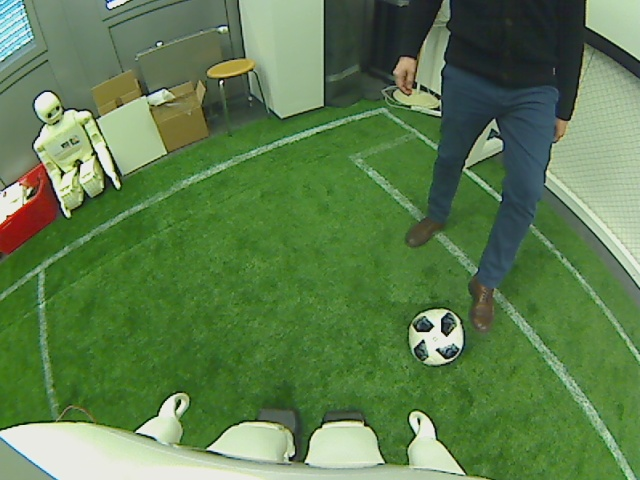ball: (408, 308, 464, 366)
